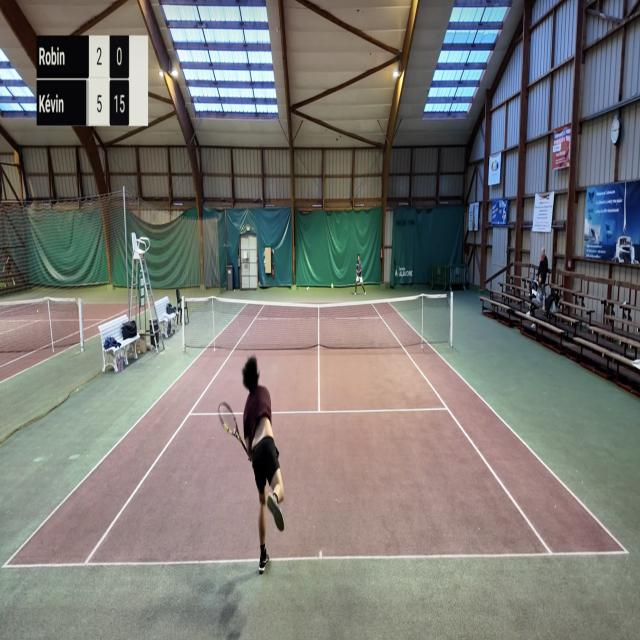ball: (331, 282, 333, 290), (36, 309, 39, 314), (138, 350, 140, 355), (234, 288, 235, 292)
